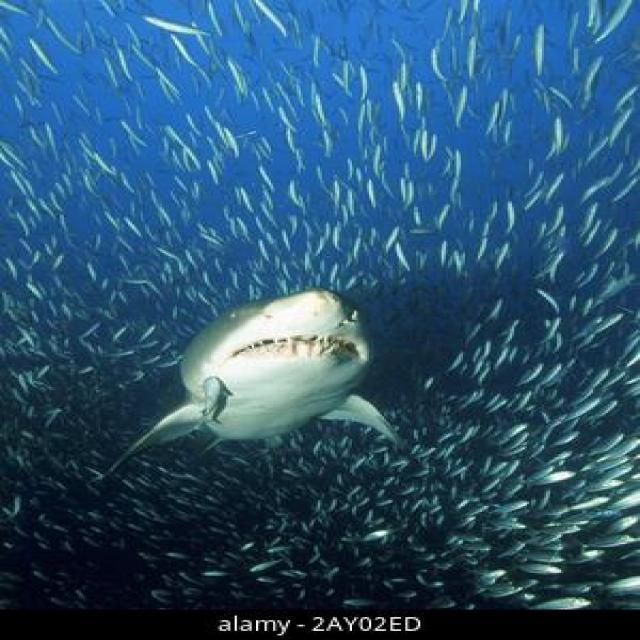Shark: (90, 239, 422, 471)
